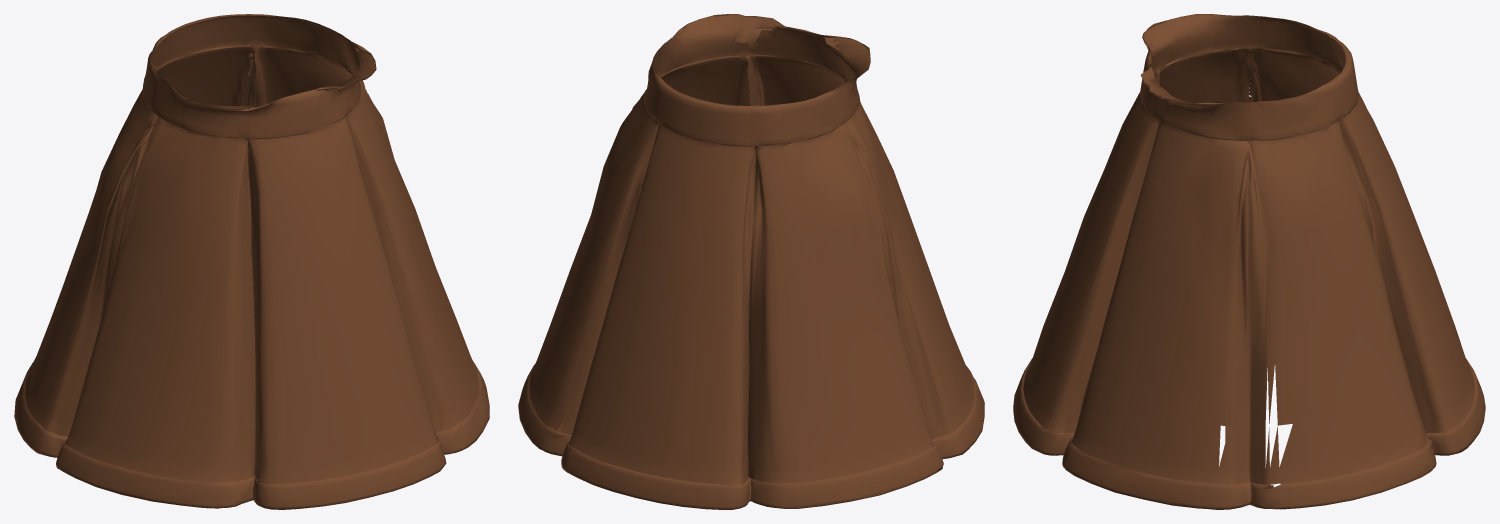
Rendered from bottom_f_skirtaline.glb.
3 renders of one model, left to right at view 1: azimuth 30°, elevation 25°; view 2: azimuth 150°, elevation 25°; view 3: azimuth 270°, elevation 25°, orthographic.
Visible parts, largest first — view 1: bottom_f_skirtaline; view 2: bottom_f_skirtaline; view 3: bottom_f_skirtaline.
Boxes of the visible parts, x1,y1,x2,y2 form: bottom_f_skirtaline: [14, 14, 489, 509]; bottom_f_skirtaline: [518, 14, 984, 509]; bottom_f_skirtaline: [1013, 14, 1485, 509].
Bounding box in the file's own units: 0.7289 × 0.6037 × 0.7316.
Materials: 1 (1 with a texture image).
